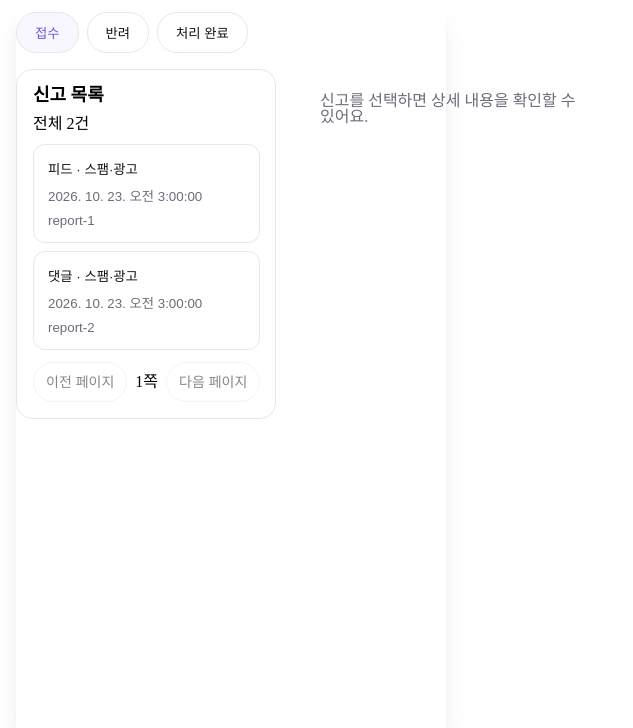
Test: 관리자 신고 심사 › 최초 심사 관리자가 삭제되어도 종결 사유를 유지하고 읽기 전용으로 보여준다
This screenshot has width=633, height=728.
Click the button with aria-label "피드 신고 report-1".
click(147, 194)  # box [33, 144, 260, 243]
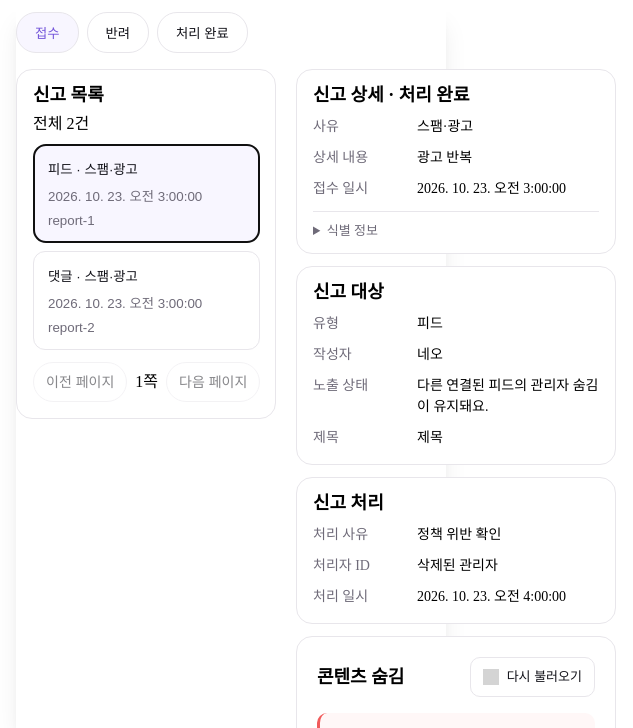
Expected: the heading "신고 상세 · 처리 완료" is shown, [313, 85, 470, 105]
Expected: the text "처리자 ID" is shown, [313, 558, 370, 573]
Expected: the text "삭제된 관리자" is shown, [417, 558, 498, 573]
